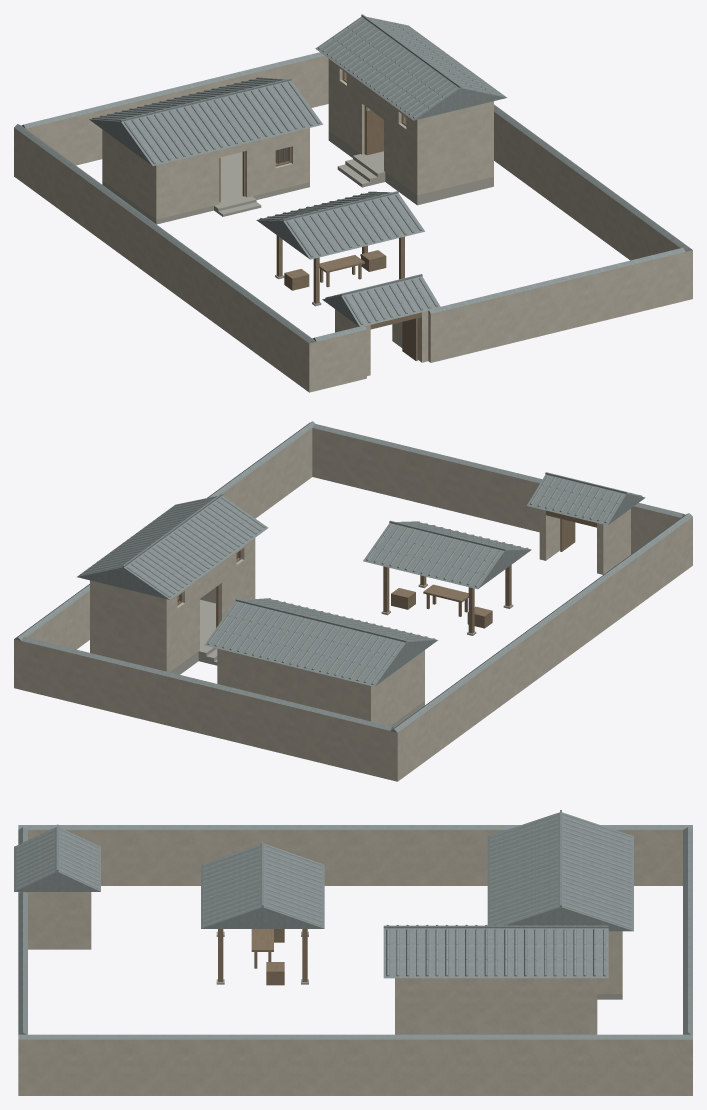
The model's file is south.glb.
3 renders of one model, top to bottom at view 1: azimuth 30°, elevation 25°; view 2: azimuth 150°, elevation 25°; view 3: azimuth 270°, elevation 25°, orthographic. The views are drawn at different scales.
Visible parts, largest first — view 1: architecture_C_whitebox_earth_wall.001, architecture_C_roof_rhythm_not_glaze_copy.001, architecture_C_floor_plinth.001, architecture_C_plain_timber.001; view 2: architecture_C_whitebox_earth_wall.001, architecture_C_roof_rhythm_not_glaze_copy.001, architecture_C_plain_timber.001, architecture_C_floor_plinth.001; view 3: architecture_C_whitebox_earth_wall.001, architecture_C_roof_rhythm_not_glaze_copy.001, architecture_C_plain_timber.001.
Part boxes in pixels (left/top/right/bottom): architecture_C_whitebox_earth_wall.001: left=14, top=56, right=692, bottom=392; architecture_C_roof_rhythm_not_glaze_copy.001: left=14, top=14, right=692, bottom=343; architecture_C_floor_plinth.001: left=102, top=117, right=493, bottom=306; architecture_C_plain_timber.001: left=219, top=71, right=421, bottom=360; architecture_C_whitebox_earth_wall.001: left=14, top=428, right=692, bottom=781; architecture_C_roof_rhythm_not_glaze_copy.001: left=14, top=421, right=692, bottom=732; architecture_C_plain_timber.001: left=177, top=510, right=596, bottom=633; architecture_C_floor_plinth.001: left=170, top=583, right=513, bottom=727; architecture_C_whitebox_earth_wall.001: left=18, top=830, right=692, bottom=1095; architecture_C_roof_rhythm_not_glaze_copy.001: left=14, top=810, right=692, bottom=1039; architecture_C_plain_timber.001: left=218, top=929, right=307, bottom=985.
Size of the model in its own units: 18 by 5.07 by 24.15.
4 materials, 3 textured.
